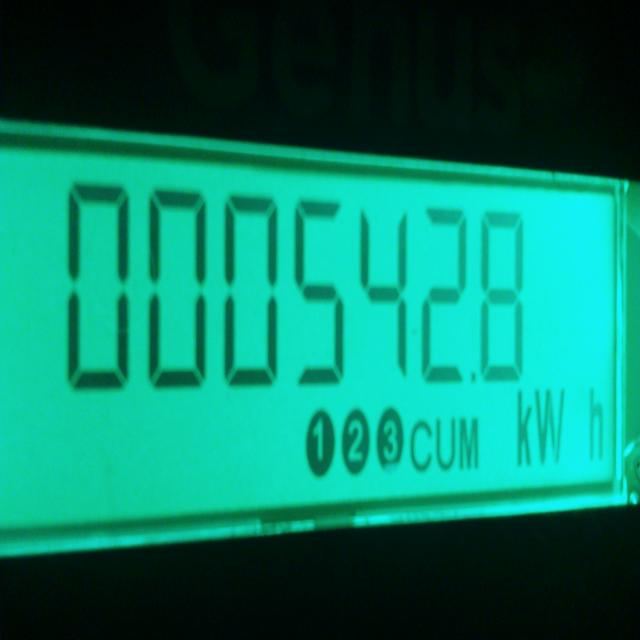.: (464, 362, 480, 395)
0: (59, 161, 135, 403), (141, 185, 216, 395), (220, 185, 286, 396)
2: (418, 202, 468, 392)
4: (358, 199, 415, 383)
5: (289, 187, 352, 398)
8: (477, 197, 526, 389)
